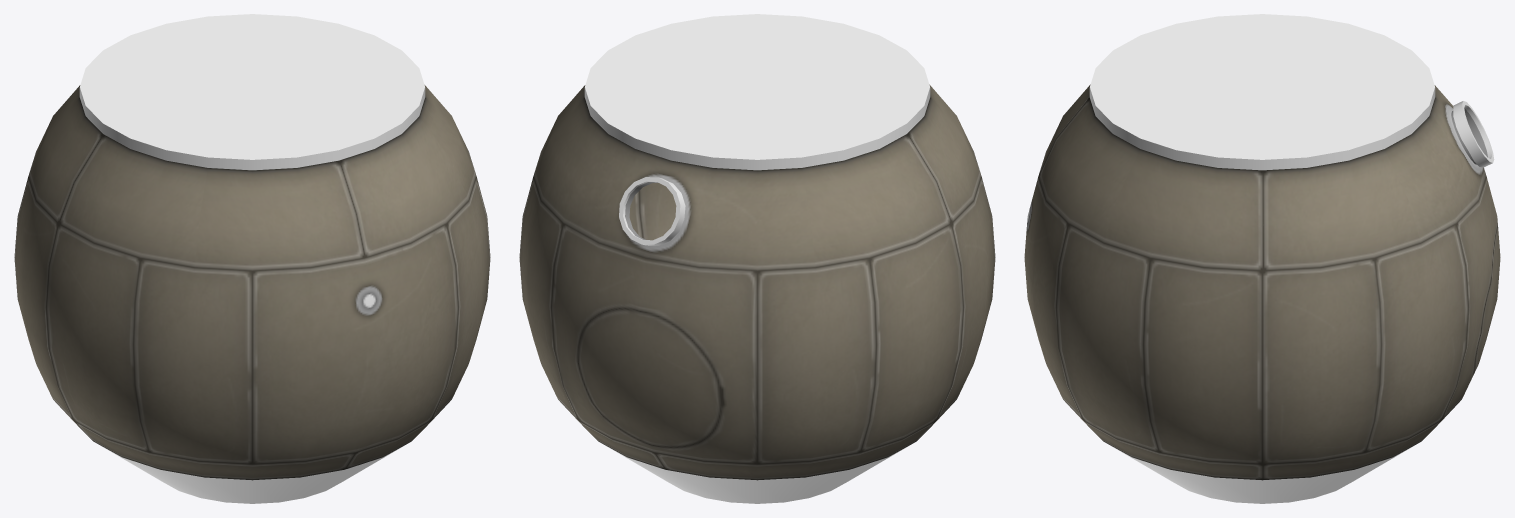
Rendered from Tantares_Habitation_1_Interior.obj.
The picture shows the model from 3 angles, left to right: view 1: azimuth 30°, elevation 25°; view 2: azimuth 150°, elevation 25°; view 3: azimuth 270°, elevation 25°; orthographic projection.
Parts seen in each view (by area): view 1: Tantares_Habitation_1, Tantares_Habitation_1_Interior_Mask; view 2: Tantares_Habitation_1, Tantares_Habitation_1_Interior_Mask; view 3: Tantares_Habitation_1, Tantares_Habitation_1_Interior_Mask.
Part boxes in pixels (left/top/right/bottom): Tantares_Habitation_1: left=14, top=85, right=490, bottom=480; Tantares_Habitation_1_Interior_Mask: left=79, top=14, right=425, bottom=503; Tantares_Habitation_1: left=519, top=84, right=995, bottom=480; Tantares_Habitation_1_Interior_Mask: left=584, top=14, right=930, bottom=503; Tantares_Habitation_1: left=1024, top=84, right=1500, bottom=480; Tantares_Habitation_1_Interior_Mask: left=1089, top=14, right=1494, bottom=503.
Bounding box in the file's own units: 1.29 × 1.12 × 1.29.
